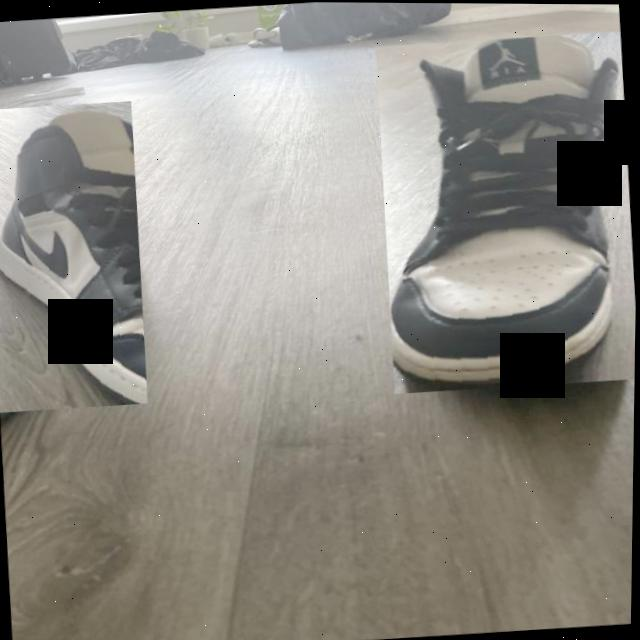shoe: (370, 28, 640, 395), (0, 99, 152, 413)
